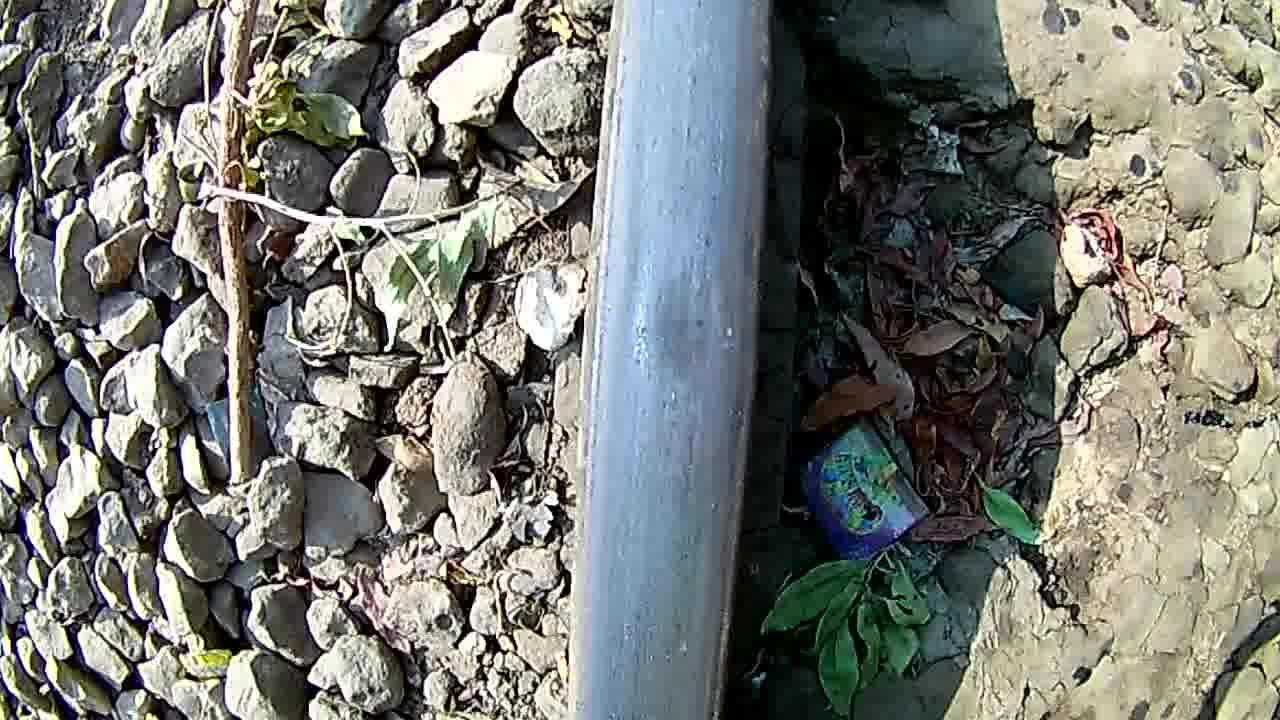bolt_missing: (602, 262, 764, 424)
